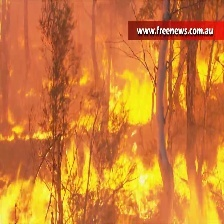fire: (0, 58, 218, 222)
